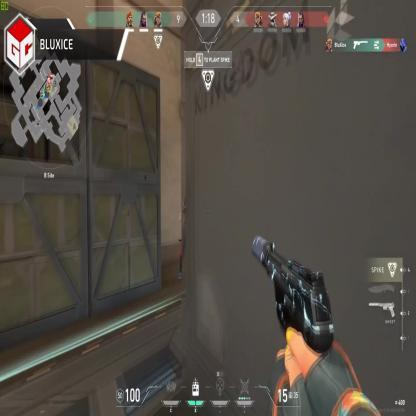enemy: (180, 194, 196, 284)
enemy_head: (184, 194, 192, 204)
